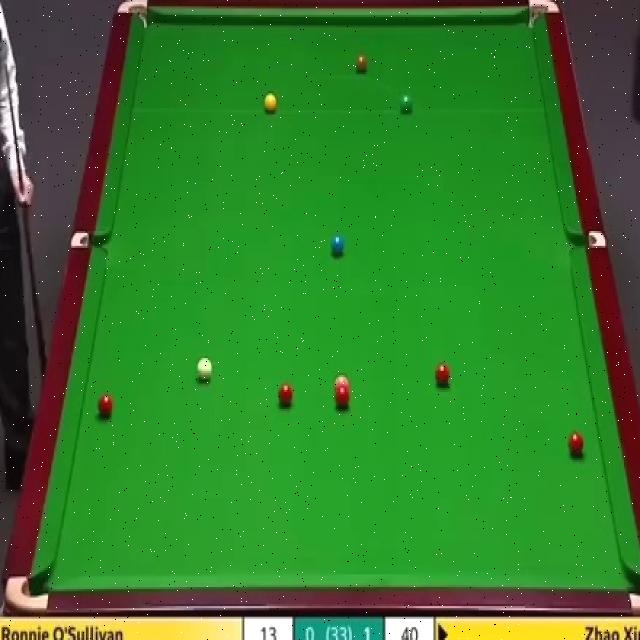blue-ball: (330, 233, 346, 257)
brown-ball: (354, 54, 368, 75)
green-ball: (398, 93, 412, 114)
pink-ball: (334, 375, 351, 390)
red-ball: (98, 391, 114, 420), (568, 433, 586, 457), (434, 363, 450, 388), (333, 387, 351, 409), (278, 384, 294, 407)
white-ball: (195, 356, 213, 383)
yellow-ball: (263, 91, 277, 113)
